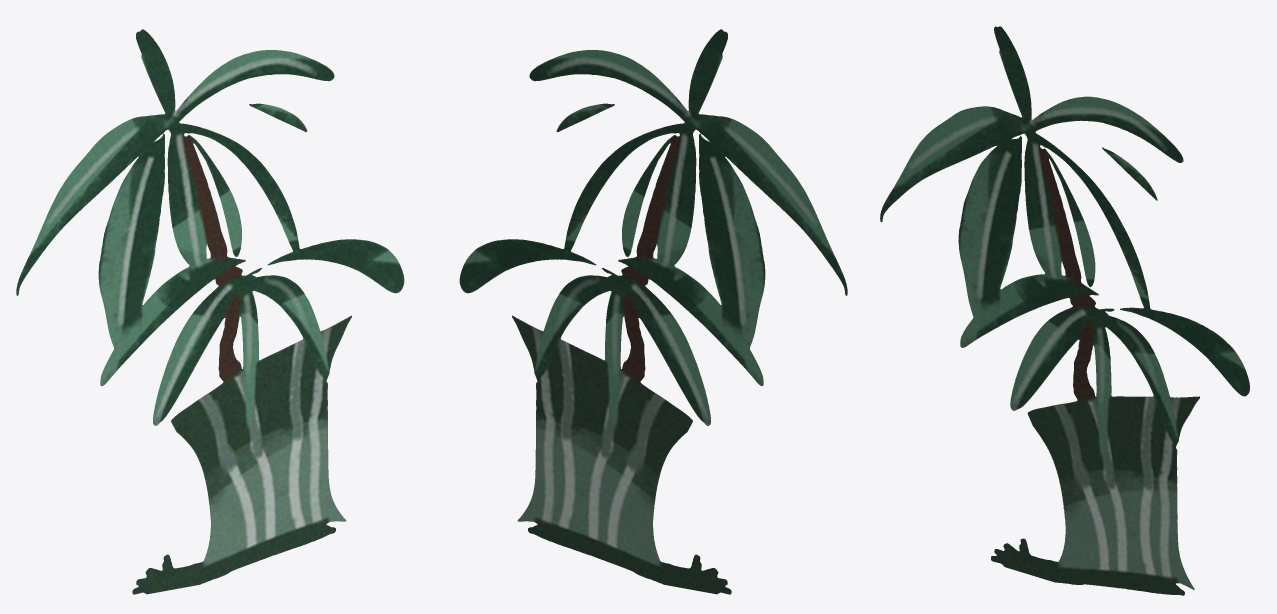
Rendered from SM_PlantPot.fbx.
The picture shows the model from 3 angles, left to right: view 1: azimuth 30°, elevation 25°; view 2: azimuth 150°, elevation 25°; view 3: azimuth 330°, elevation 25°; orthographic projection. The views are drawn at different scales.
Visible parts, largest first — view 1: SM_PlantPot; view 2: SM_PlantPot; view 3: SM_PlantPot.
Boxes of the visible parts, x1,y1,x2,y2 form: SM_PlantPot: (16, 29, 404, 594); SM_PlantPot: (459, 29, 847, 594); SM_PlantPot: (880, 26, 1249, 595).
Bounding box in the file's own units: 150 × 208 × 4.77e-05.
